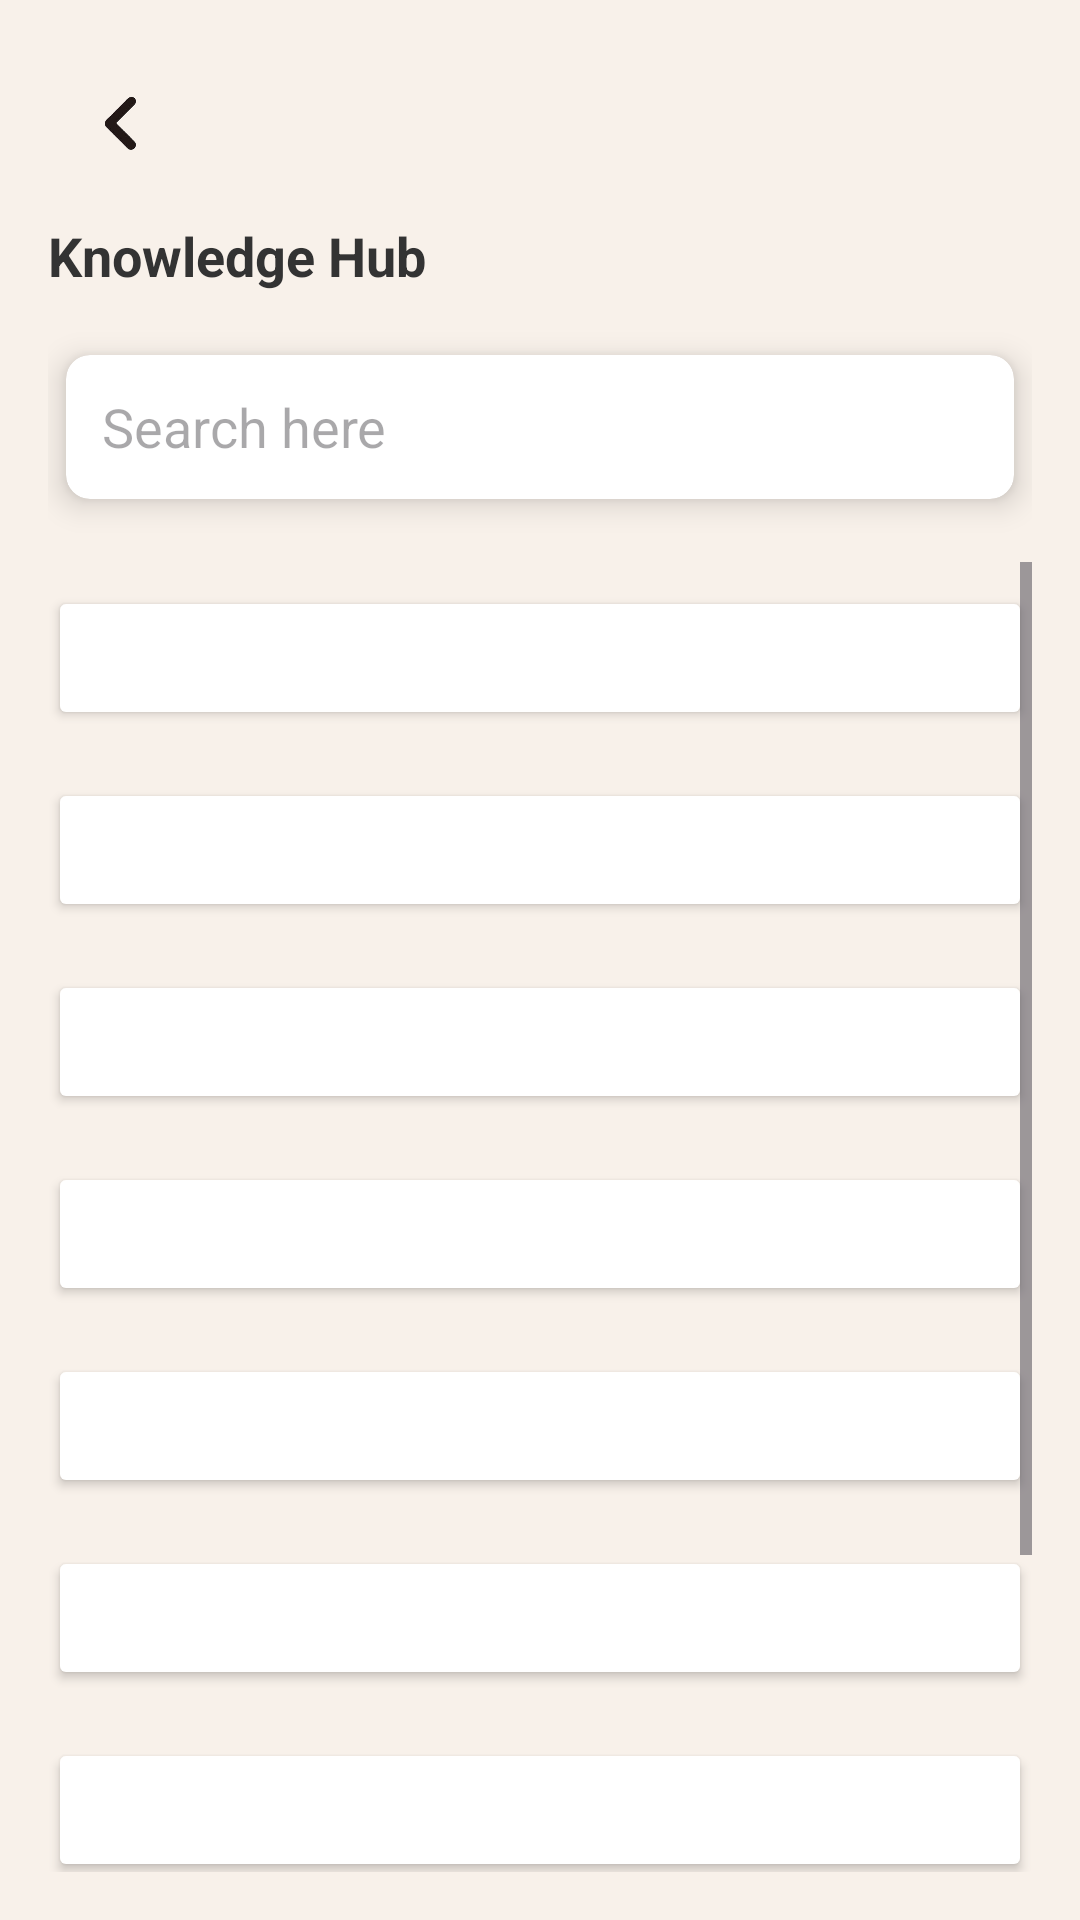

Named icons in this screenshot (1080*1920) and their centers, (x=x, y=y):
back: (x=120, y=123)
